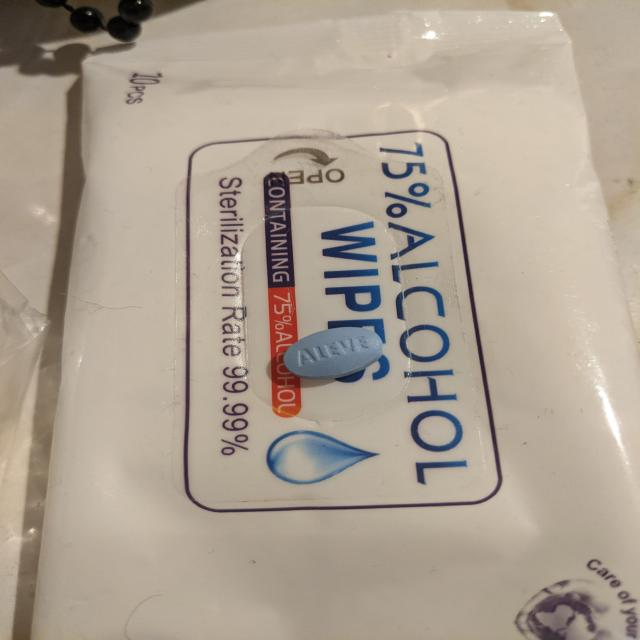non-organic waste: (282, 325, 383, 381)
